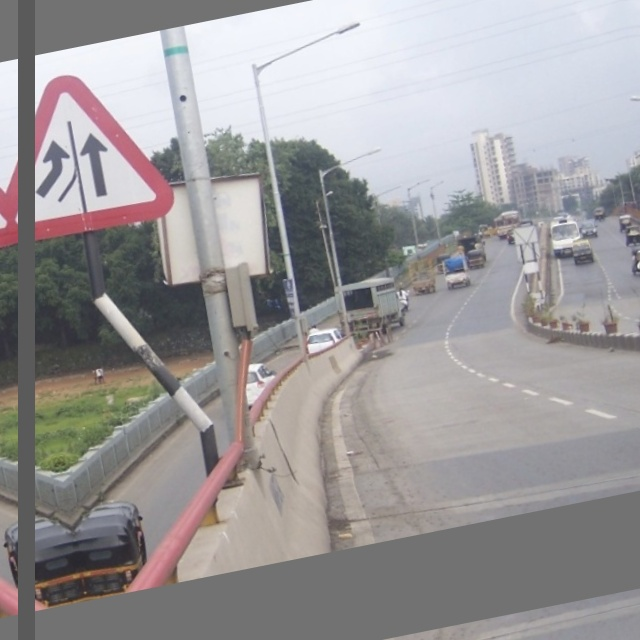Merge_Traffic_Ahead: (1, 66, 176, 245)
